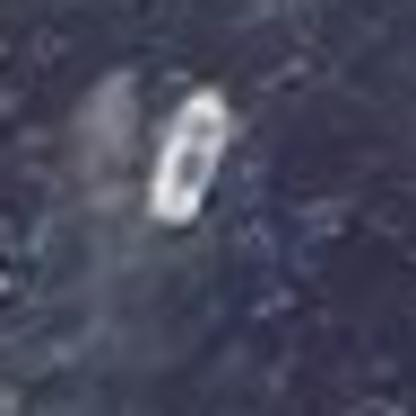ship: (134, 78, 231, 238)
